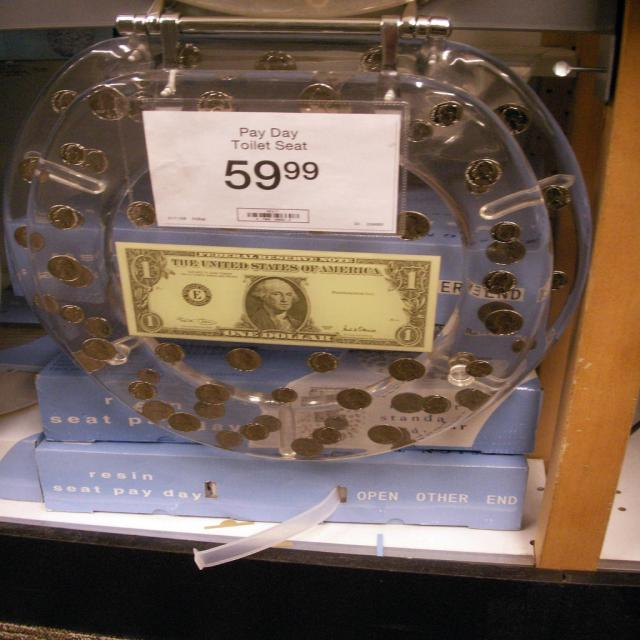Coin: (6, 41, 572, 463)
